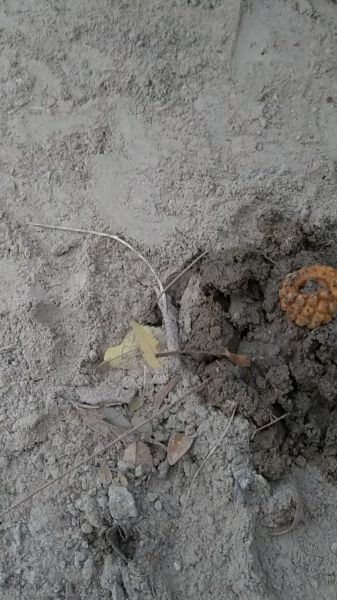eggs: (275, 263, 337, 331)
